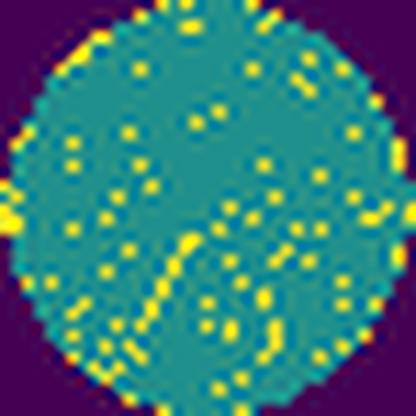Scratch: (131, 228, 207, 336)
